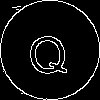Q: (25, 25, 70, 78)
